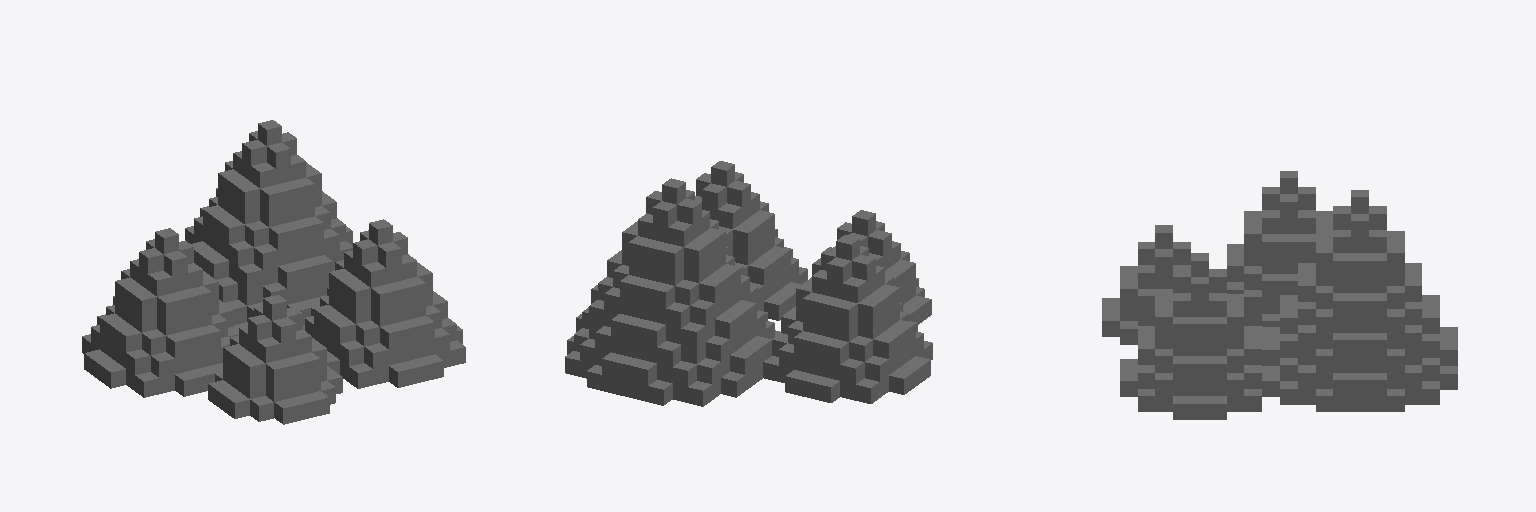
3 renders of one model, left to right at view 1: azimuth 30°, elevation 25°; view 2: azimuth 150°, elevation 25°; view 3: azimuth 270°, elevation 25°, orthographic.
Parts seen in each view (by area): view 1: Stalagmites; view 2: Stalagmites; view 3: Stalagmites.
Part boxes in pixels (bbox=[...]): Stalagmites: bbox=[82, 120, 465, 424]; Stalagmites: bbox=[565, 161, 932, 406]; Stalagmites: bbox=[1102, 171, 1457, 419].
Bounding box in the file's own units: 2 × 1.1 × 2.
1 materials, 1 textured.